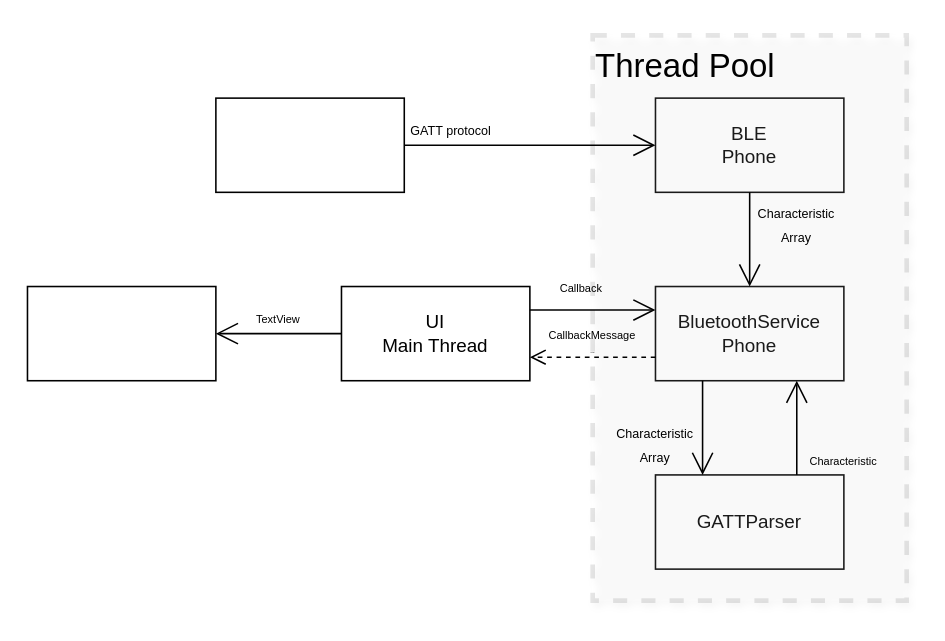
Image size: 945x641. Some labels were removed from this diagram. Here are the shapes that lost their labels. From the top down, the centre of each, then its label:
At pixel 309 144: "BLE Flora".
At pixel 121 333: "Display Phone".
